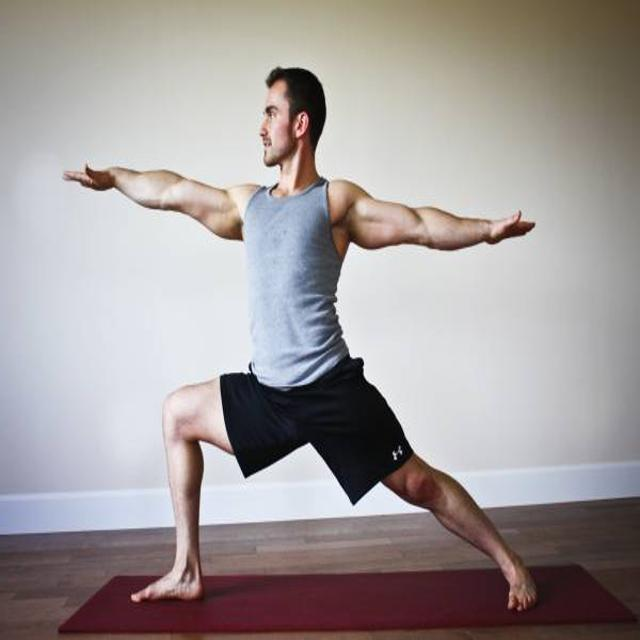Warrior_II: (55, 66, 547, 616)
